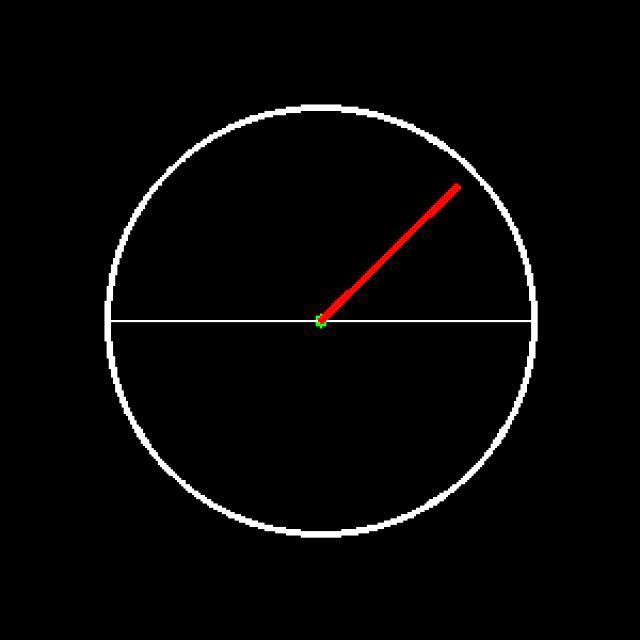Needle_Tip: (435, 163, 472, 216)
Needle_base: (286, 296, 352, 348)
